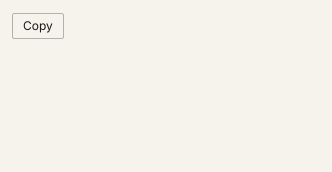
Test: CopyButton › copies its text and confirms
The width and height of the screenshot is (332, 172).
Click the button with aria-label "Copy query" at (38, 26), box 12,13 -> 64,39
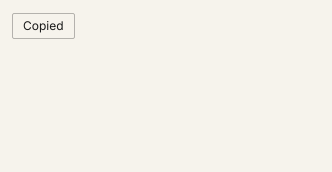
expect the button with aria-label "Copy query" reads "Copied": met, box 12,13 -> 75,39
